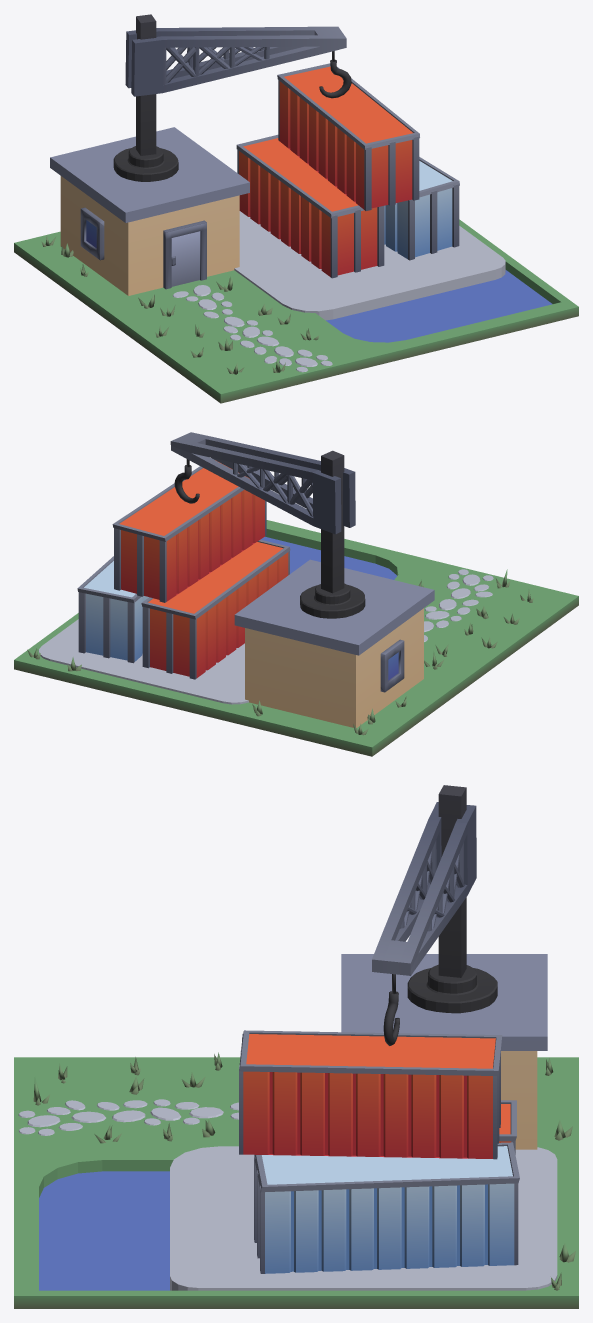
File: shipping_dock.glb
3 renders of one model, top to bottom at view 1: azimuth 30°, elevation 25°; view 2: azimuth 150°, elevation 25°; view 3: azimuth 270°, elevation 25°, orthographic. The views are drawn at different scales.
Visible parts, largest first — view 1: shipping_dock; view 2: shipping_dock; view 3: shipping_dock.
Part boxes in pixels (x1,y1,x2,y2): shipping_dock: (14,14,578,403); shipping_dock: (14,432,578,756); shipping_dock: (14,785,578,1308).
Bounding box in the file's own units: 2 × 1.31 × 2.
1 material, 1 textured.
